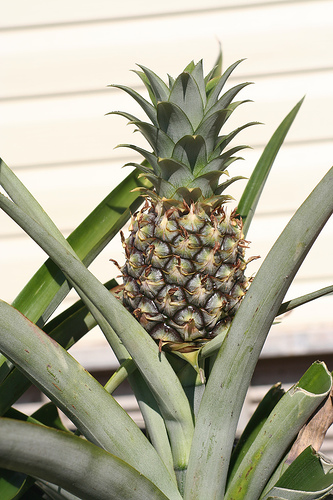pineapple: (103, 37, 266, 362)
